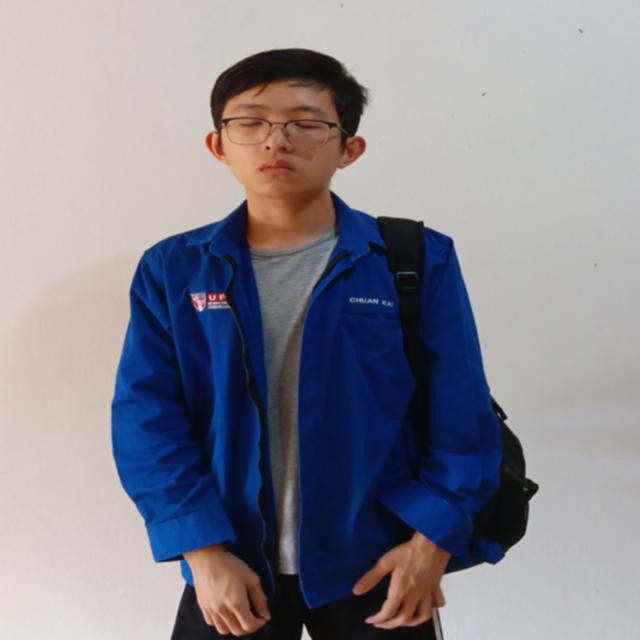person_with_labcoat: (112, 49, 537, 640)
